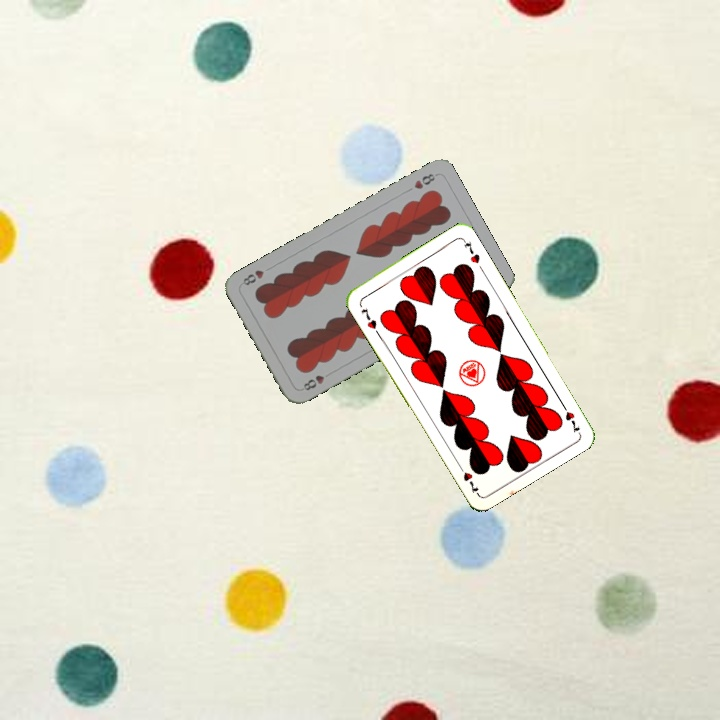H7: (557, 398, 583, 435), (357, 303, 382, 337)
H8: (410, 169, 439, 192), (299, 371, 327, 393)
